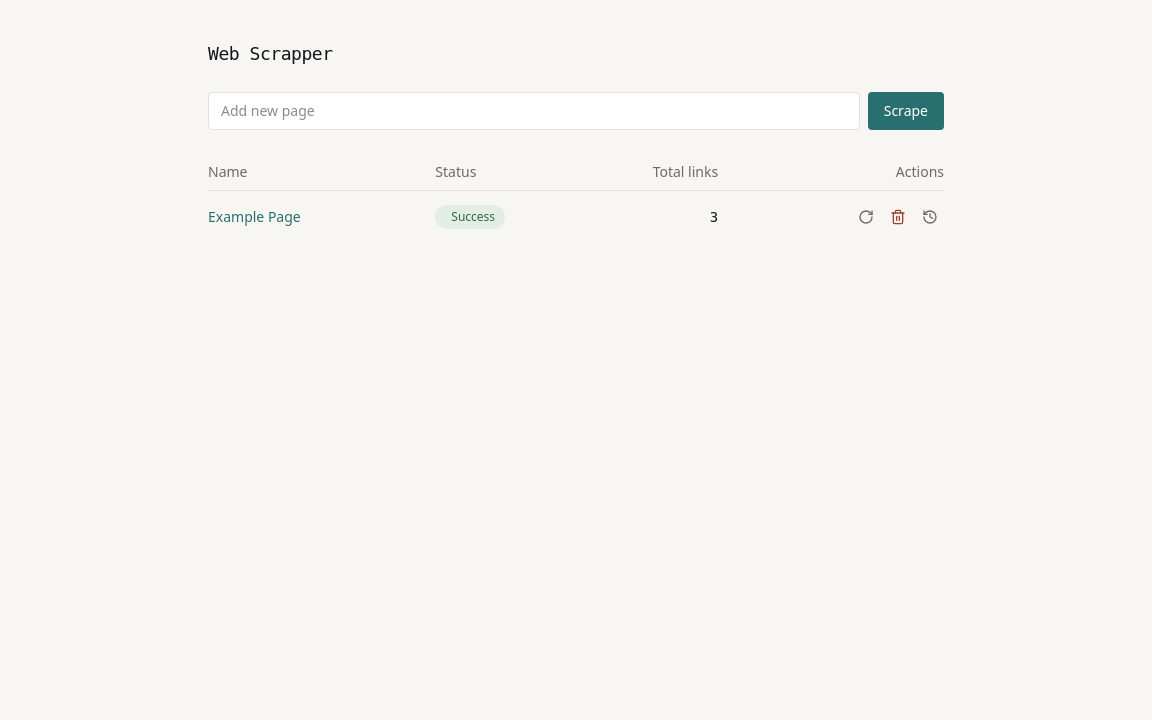
Test: PageListView › opens the insights dialog on click and renders the status history, then closes
Check: the link "Example Page" is shown, box [208,207,301,226]
Click the button named "Insights": (930, 217) [916,203,944,231]
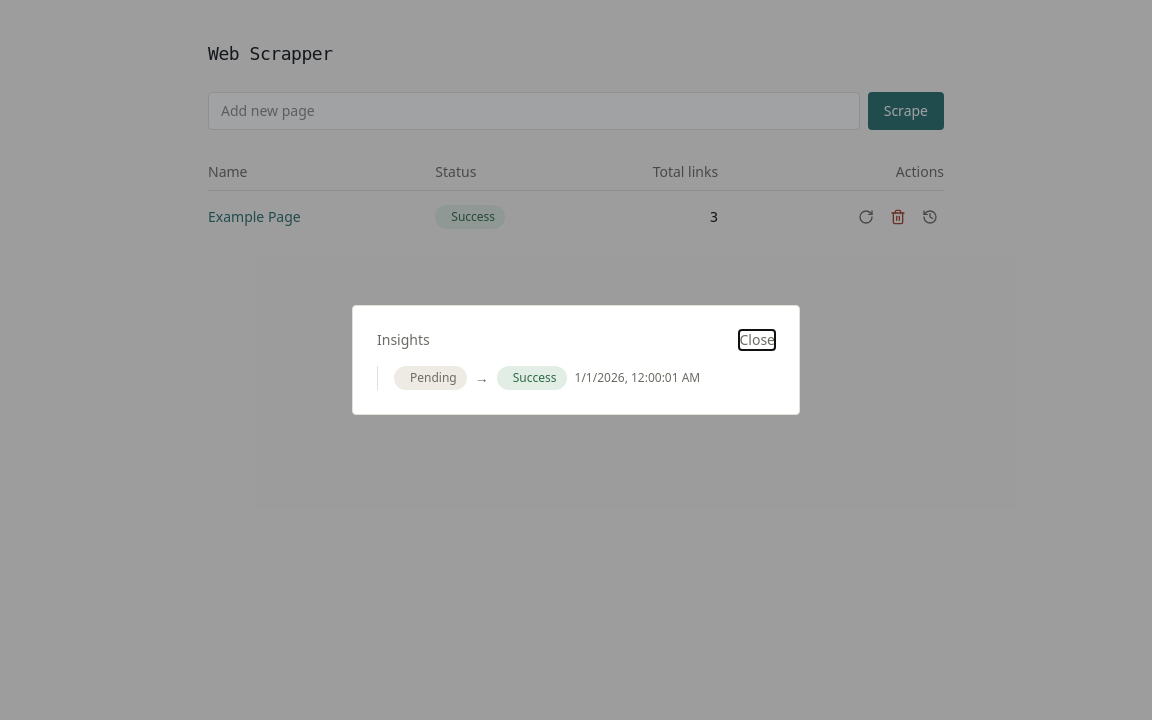
Check: the text "Pending" is shown, box [394,366,467,390]
Click the button "Close": (757, 340) [740,330,775,350]
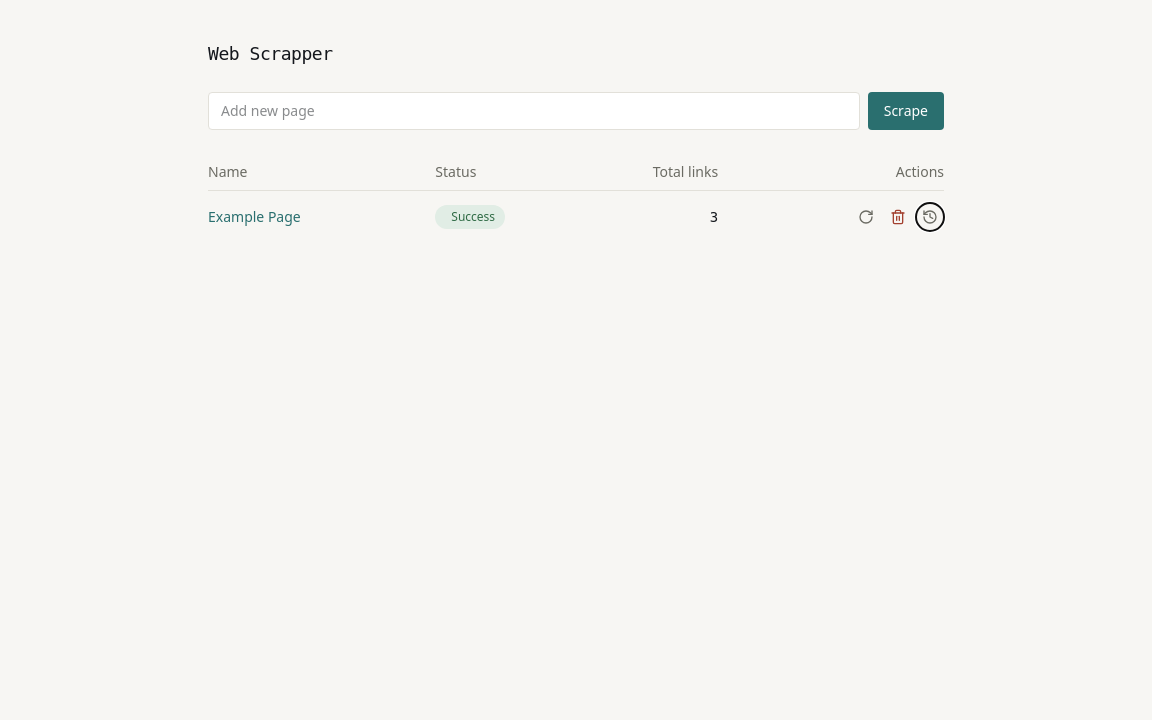
Check: the text "Pending" is gone
